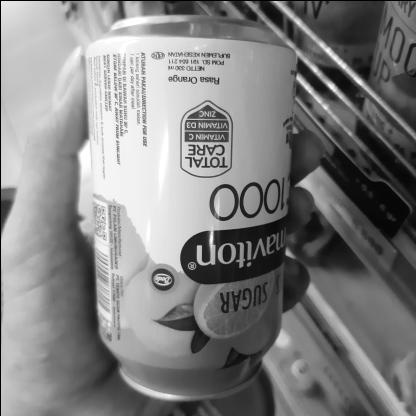alumunium_can: (68, 1, 304, 416)
